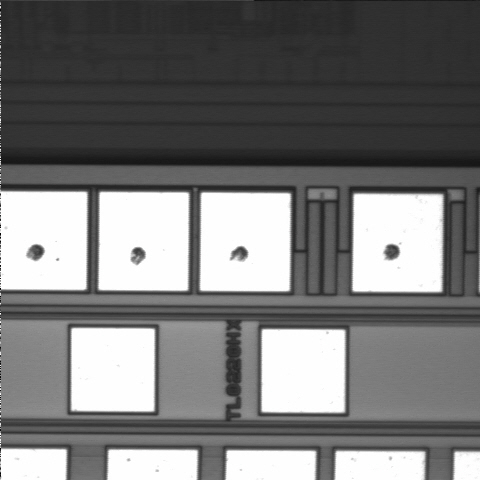pad: (99, 192, 189, 291), (200, 193, 290, 291), (353, 194, 443, 292), (71, 328, 155, 411), (262, 329, 345, 413)
